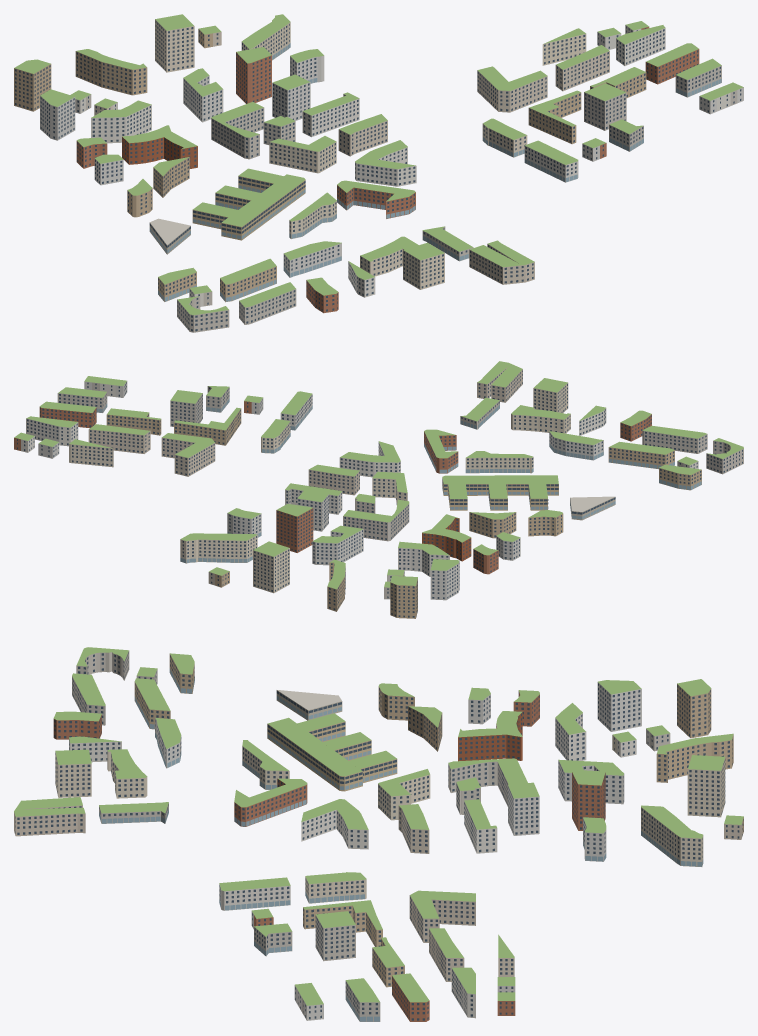
The picture shows the model from 3 angles, top to bottom: view 1: azimuth 30°, elevation 25°; view 2: azimuth 150°, elevation 25°; view 3: azimuth 270°, elevation 25°; orthographic projection. The views are drawn at different scales.
Parts seen in each view (by area): view 1: S6_P2_wand, S6_P3_wand, S6_P1_wand, S6_P4_wand, S6_P3_dach, S6_P3_fenster, S6_P2_dach, S6_P2_fenster, S6_P4_dach, S6_P1_fenster, S6_P1_dach, S6_P4_fenster; view 2: S6_P2_wand, S6_P1_wand, S6_P3_wand, S6_P4_wand, S6_P3_dach, S6_P3_fenster, S6_P2_dach, S6_P4_dach, S6_P2_fenster, S6_P1_fenster, S6_P4_fenster, S6_P1_dach; view 3: S6_P3_wand, S6_P2_wand, S6_P1_wand, S6_P3_dach, S6_P4_wand, S6_P3_fenster, S6_P2_dach, S6_P4_dach, S6_P1_dach, S6_P1_fenster, S6_P2_fenster, S6_P4_fenster.
Part boxes in pixels (x1,y1,x2,y2): S6_P2_wand: (76,25,665,217); S6_P3_wand: (149,49,743,254); S6_P1_wand: (14,19,324,143); S6_P4_wand: (158,226,534,332); S6_P3_dach: (150,43,743,244); S6_P3_fenster: (149,50,741,253); S6_P2_dach: (77,21,665,195); S6_P2_fenster: (77,26,664,214); S6_P4_dach: (158,226,534,314); S6_P1_fenster: (15,21,317,141); S6_P1_dach: (14,14,323,117); S6_P4_fenster: (158,228,533,331); S6_P2_wand: (14,418,563,574); S6_P1_wand: (180,508,459,618); S6_P3_wand: (39,381,615,520); S6_P4_wand: (460,366,743,490); S6_P3_dach: (40,376,614,511); S6_P3_fenster: (40,382,615,519); S6_P2_dach: (14,416,562,555); S6_P4_dach: (461,361,743,474); S6_P2_fenster: (17,419,561,572); S6_P1_fenster: (180,509,459,617); S6_P4_fenster: (460,369,742,489); S6_P1_dach: (180,504,459,589); S6_P3_wand: (219,690,429,1021); S6_P2_wand: (378,686,539,1018); S6_P1_wand: (555,682,743,866); S6_P3_dach: (219,690,429,1005); S6_P4_wand: (14,650,194,836); S6_P3_fenster: (219,691,428,1021); S6_P2_dach: (378,683,539,1000); S6_P4_dach: (14,647,194,816); S6_P1_dach: (555,679,743,838); S6_P1_fenster: (555,683,743,866); S6_P2_fenster: (378,688,539,1016); S6_P4_fenster: (15,652,194,834).
Size of the model in its own units: 526 by 32.1 by 457.
